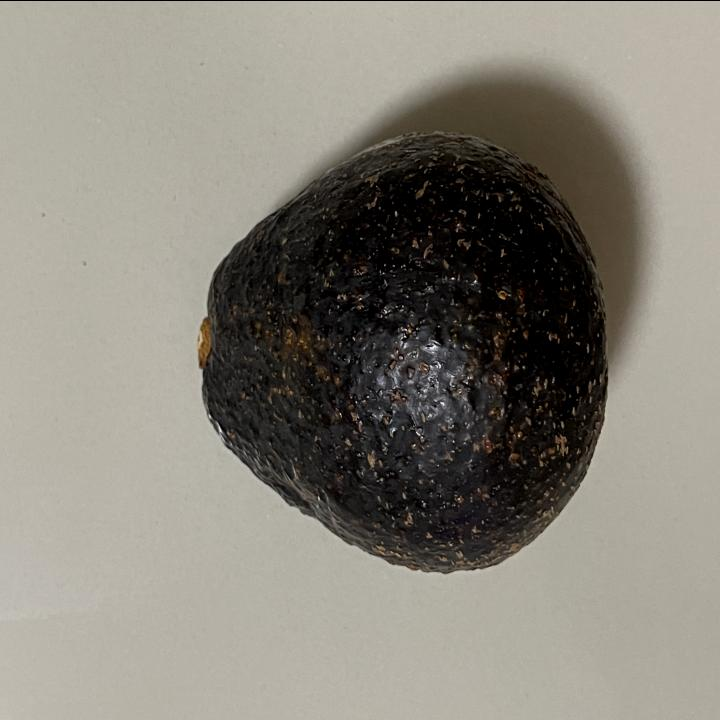Level3: (182, 119, 615, 588)
